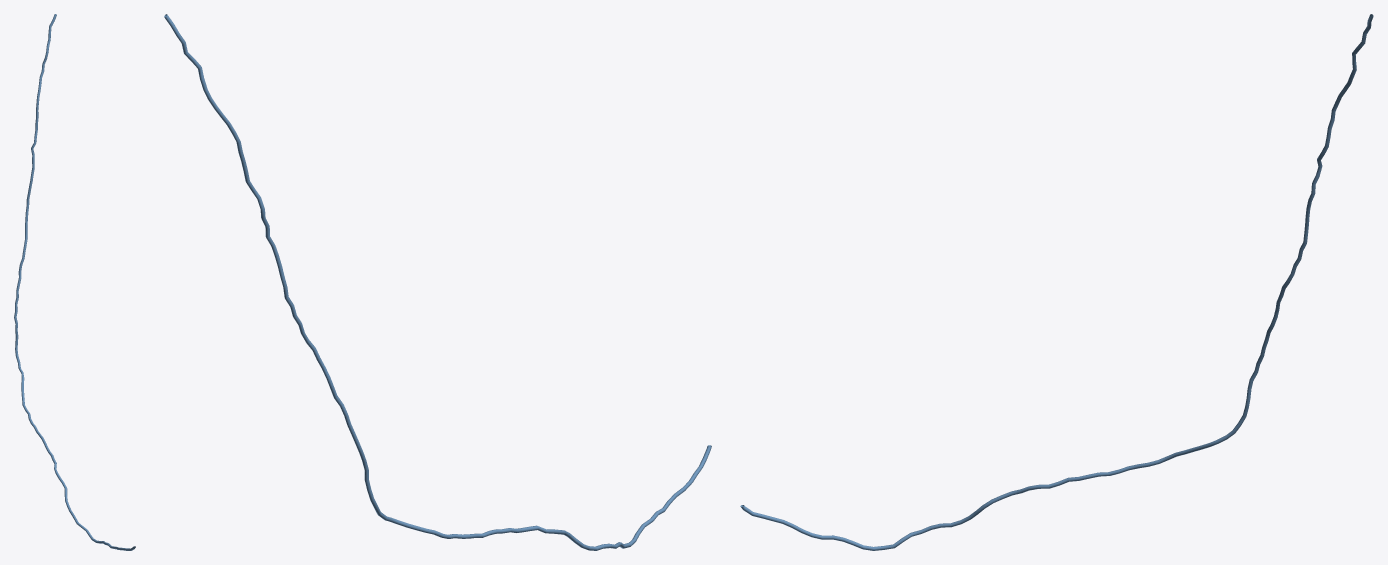
Rendered from sweep195.fbx.
3 views of the same model, side by side, from view 1: azimuth 30°, elevation 25°; view 2: azimuth 150°, elevation 25°; view 3: azimuth 270°, elevation 25° (orthographic). The views are drawn at different scales.
Parts seen in each view (by area): view 1: sweep195; view 2: sweep195; view 3: sweep195.
Boxes of the visible parts, box(x1,y1,x2,y2) form: sweep195: box(14, 14, 135, 550); sweep195: box(164, 14, 711, 550); sweep195: box(740, 14, 1373, 550).
Bounding box in the file's own units: 1.08 × 3.32 × 3.04.
